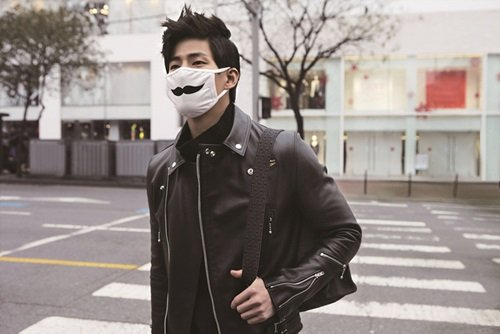face_mask: (164, 39, 223, 107)
